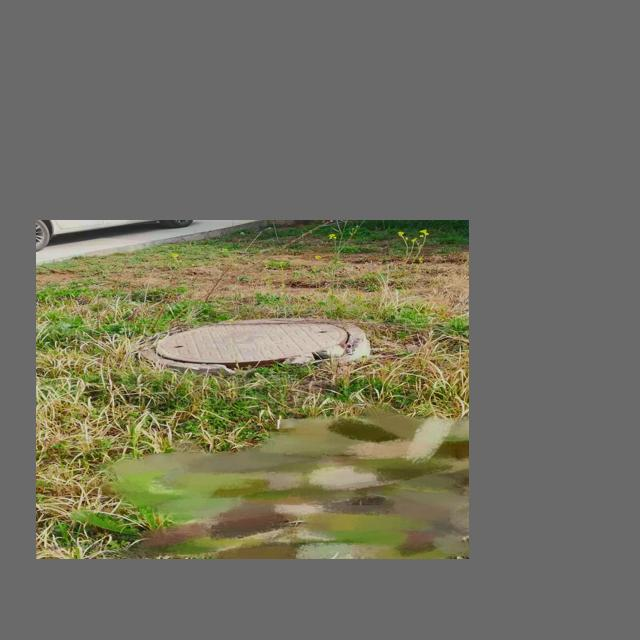circle: (126, 314, 368, 375)
